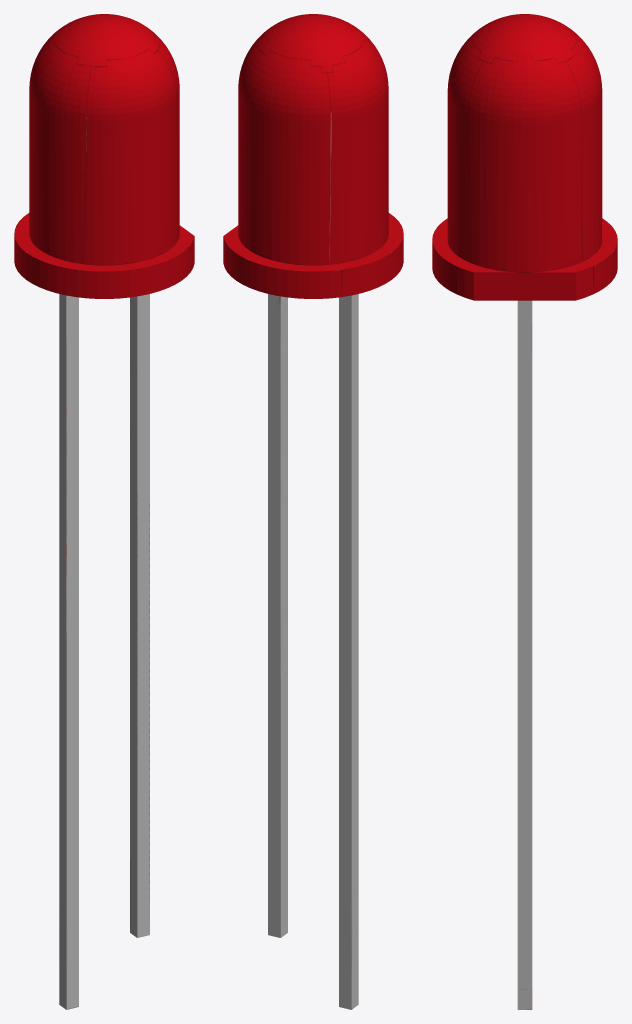
Rendered from LED.fbx.
3 renders of one model, left to right at view 1: azimuth 30°, elevation 25°; view 2: azimuth 150°, elevation 25°; view 3: azimuth 270°, elevation 25°, orthographic. The views are drawn at different scales.
Visible parts, largest first — view 1: LED 5mm; view 2: LED 5mm; view 3: LED 5mm.
Part boxes in pixels (<box>): LED 5mm: <box>14,14,194,1009</box>; LED 5mm: <box>223,14,403,1009</box>; LED 5mm: <box>432,14,617,1009</box>.
Bounding box in the file's own units: 5.5 × 35.8 × 6.
